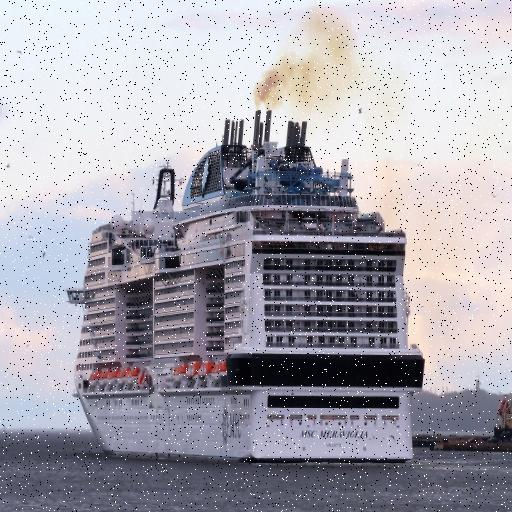cruises: (64, 108, 430, 476)
